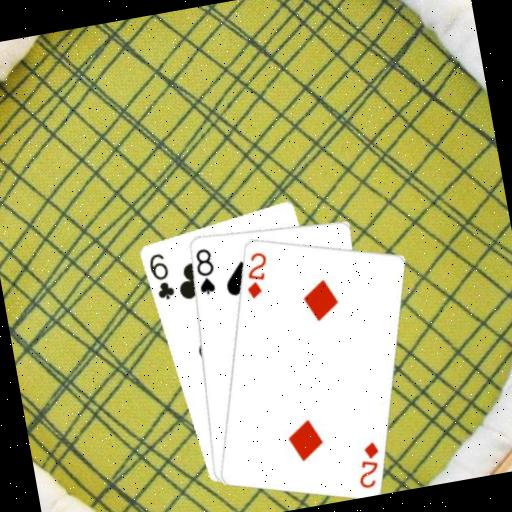2D: (237, 247, 274, 301), (349, 437, 386, 491)
6C: (144, 248, 177, 303)
8S: (189, 244, 219, 298)
